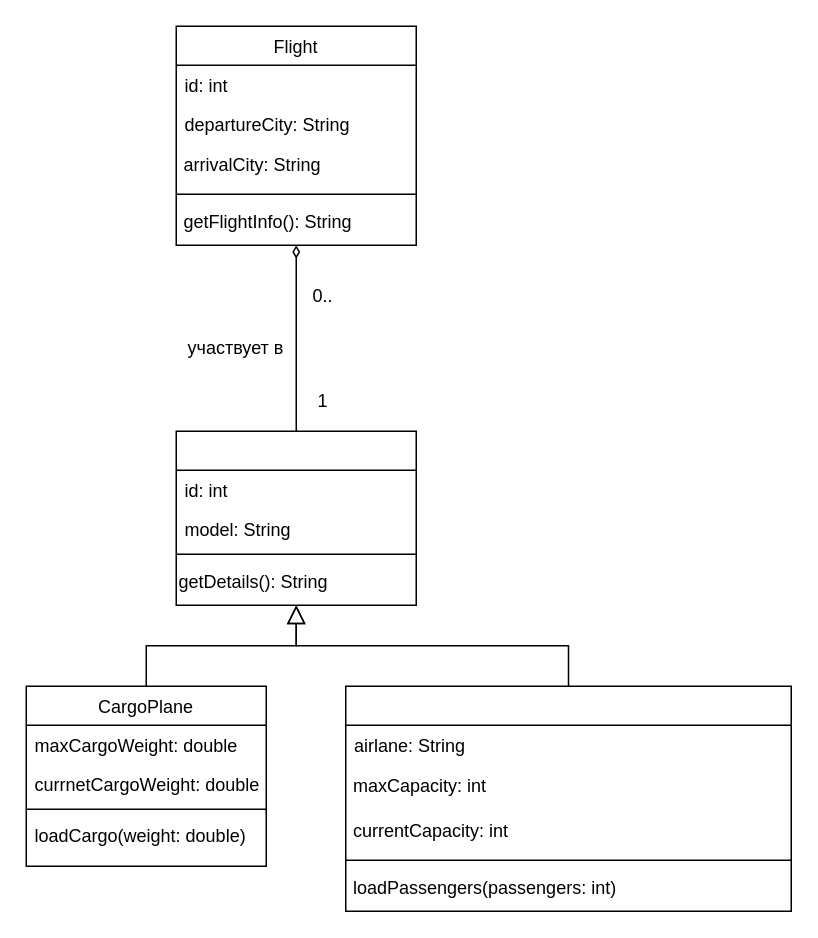
Image size: 818x938. Some labels were removed from this diagram. The shapes that lost their labels are listed below. From the top down, each one's box as (x1, y1, x2, y2) in pixels, then its label:
(175, 430, 416, 605): Aircraft
(344, 685, 791, 911): PassengerPlane
